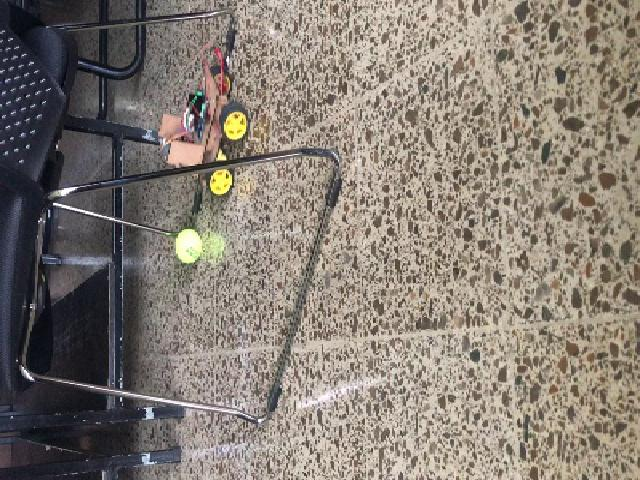Ball: (173, 229, 203, 262)
Robot: (158, 62, 250, 194)
